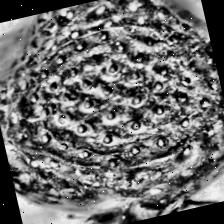Anthracnose Fruit Rot: (0, 3, 224, 204)
